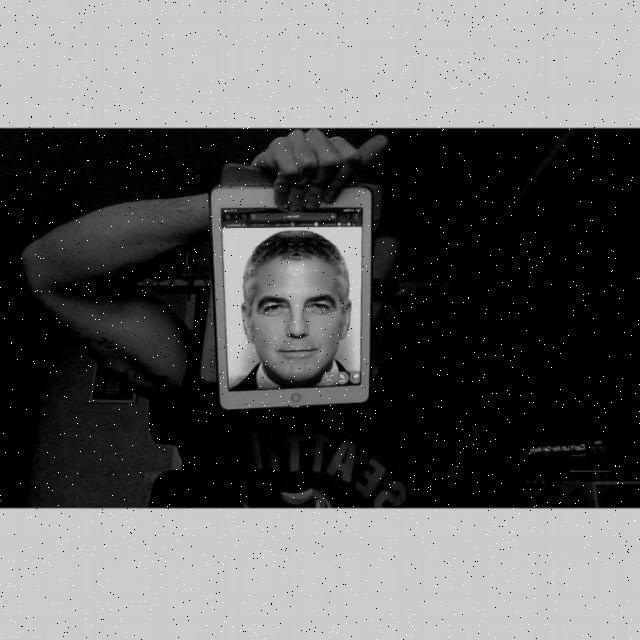fake: (206, 183, 376, 413)
